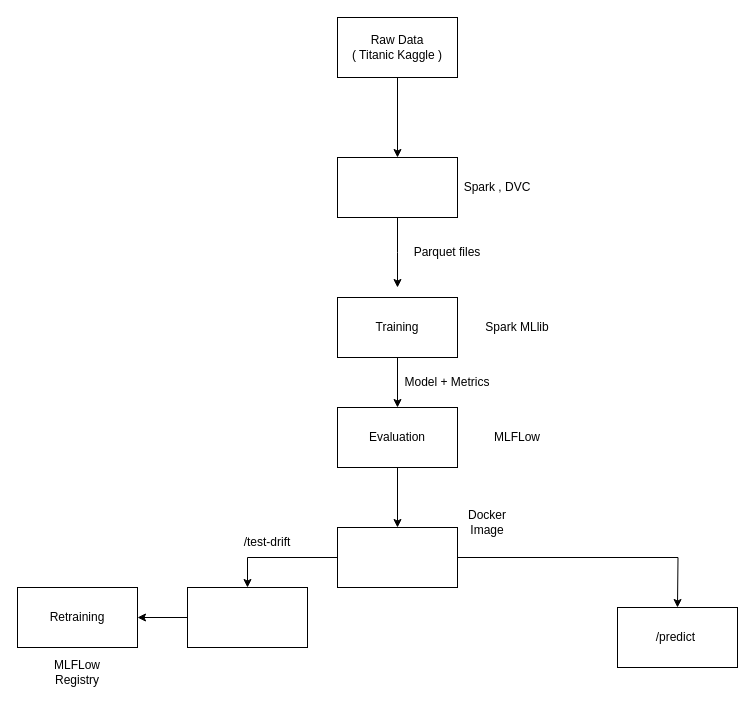
The diagram is 755 pixels wide and 705 high, and some of its shapes have lost their labels. The centre of each missing label's shape, as x and y in pixels:
"Drift Detection (PSI Monitoring)" belongs at pixel 247 617.
"Preprocessing" belongs at pixel 397 187.
"Serving (FastAPI)" belongs at pixel 397 557.
